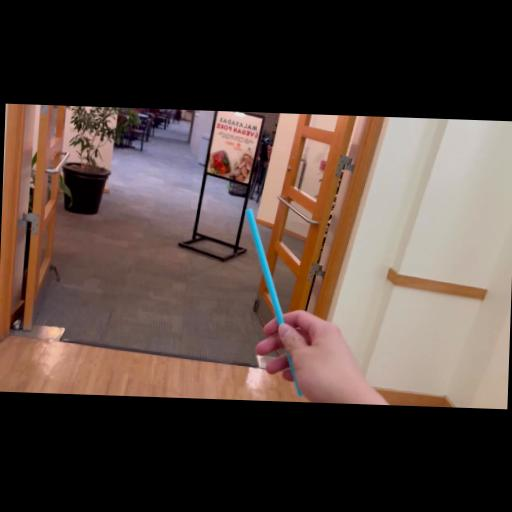straw: (242, 210, 308, 392)
